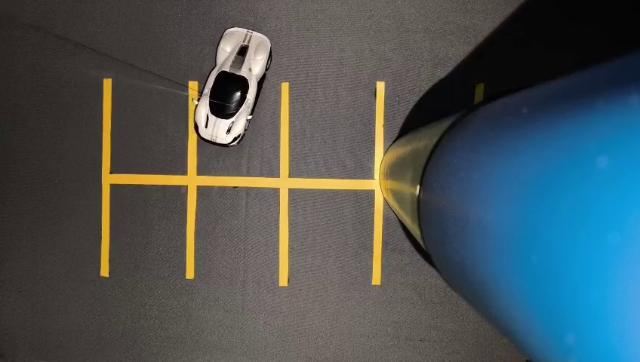toy_car: (184, 9, 293, 156)
